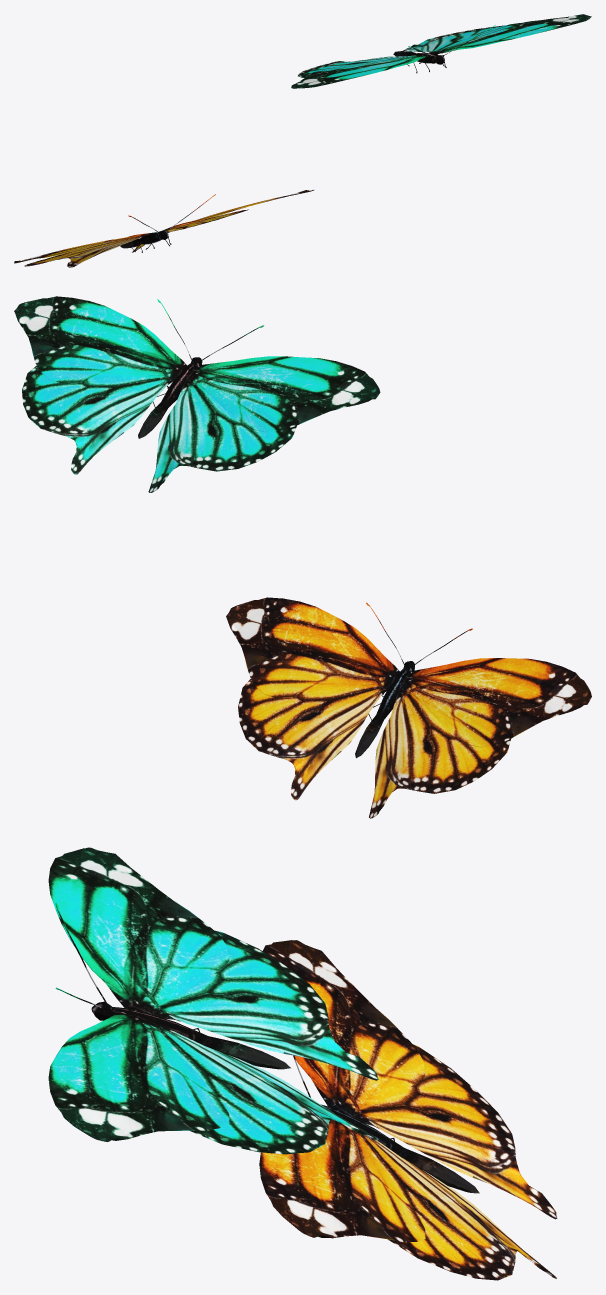
File: butterflies.glb
3 views of the same model, one above another, from view 1: azimuth 30°, elevation 25°; view 2: azimuth 150°, elevation 25°; view 3: azimuth 270°, elevation 25° (orthographic). The views are drawn at different scales.
Parts seen in each view (by area): view 1: pasted__Wings_Top1_Wings_Top1, pasted__Wings_Side1_Wings_Side1, Wings_Side1_Wings_Side1, Wings_Top1_Wings_Top1, Body, pasted__Body; view 2: Wings_Top1_Wings_Top1, pasted__Wings_Top1_Wings_Top1, Wings_Side1_Wings_Side1, pasted__Wings_Side1_Wings_Side1, Body, pasted__Body; view 3: pasted__Wings_Top1_Wings_Top1, Wings_Top1_Wings_Top1, pasted__Wings_Side1_Wings_Side1, Wings_Side1_Wings_Side1, pasted__Body, Body.
Boxes of the visible parts, left/top/right/bottom form: pasted__Wings_Top1_Wings_Top1: left=291, top=14, right=591, bottom=88; pasted__Wings_Side1_Wings_Side1: left=298, top=25, right=504, bottom=77; Wings_Side1_Wings_Side1: left=24, top=209, right=248, bottom=267; Wings_Top1_Wings_Top1: left=14, top=190, right=313, bottom=263; Body: left=120, top=194, right=215, bottom=252; pasted__Body: left=393, top=25, right=495, bottom=73; Wings_Top1_Wings_Top1: left=226, top=597, right=591, bottom=747; pasted__Wings_Top1_Wings_Top1: left=14, top=296, right=380, bottom=432; Wings_Side1_Wings_Side1: left=238, top=679, right=510, bottom=818; pasted__Wings_Side1_Wings_Side1: left=22, top=365, right=296, bottom=492; Body: left=355, top=602, right=472, bottom=758; pasted__Body: left=138, top=299, right=264, bottom=438; pasted__Wings_Top1_Wings_Top1: left=48, top=847, right=229, bottom=1141; Wings_Top1_Wings_Top1: left=259, top=940, right=425, bottom=1242; pasted__Wings_Side1_Wings_Side1: left=139, top=930, right=378, bottom=1154; Wings_Side1_Wings_Side1: left=343, top=1044, right=557, bottom=1280; pasted__Body: left=55, top=902, right=290, bottom=1069; Body: left=293, top=1055, right=479, bottom=1193.
Size of the model in its own units: 300 by 144 by 127.
Materials: 2 (2 with a texture image).
